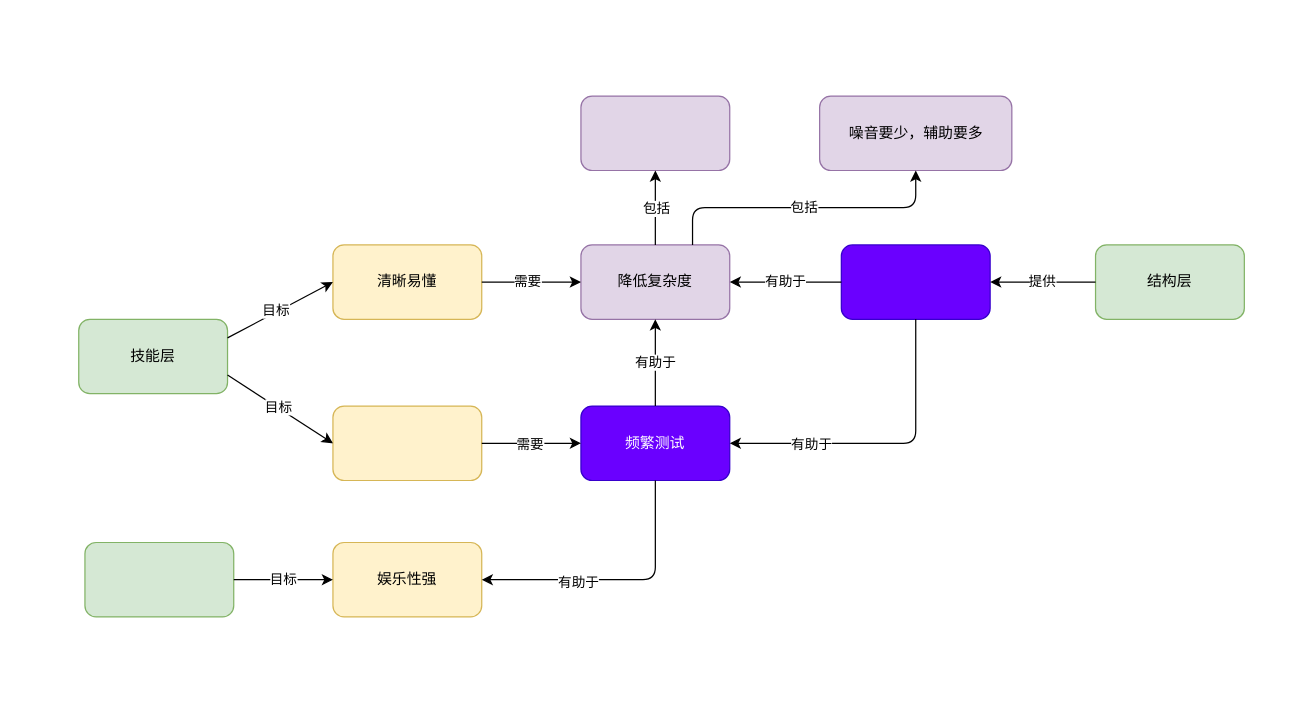
The diagram is 1311 pixels wide and 712 high, and some of its shapes have lost their labels. The centre of each missing label's shape, as x and y in pixels:
减少抽象: point (655, 132)
扎实掌握: point (407, 442)
激励层: point (159, 579)
颗粒化: point (915, 281)
